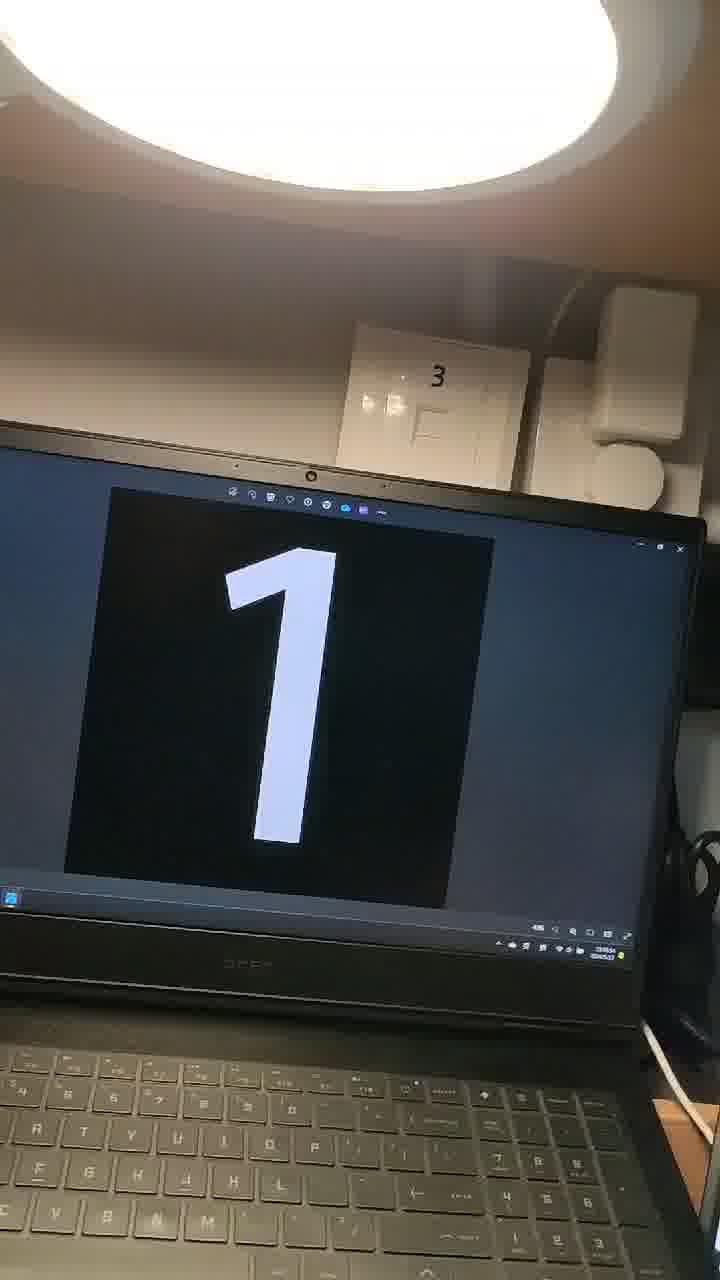one: (204, 517, 425, 865)
